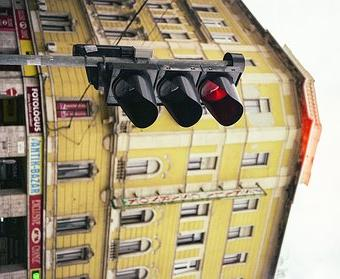trafic: (108, 62, 247, 126)
